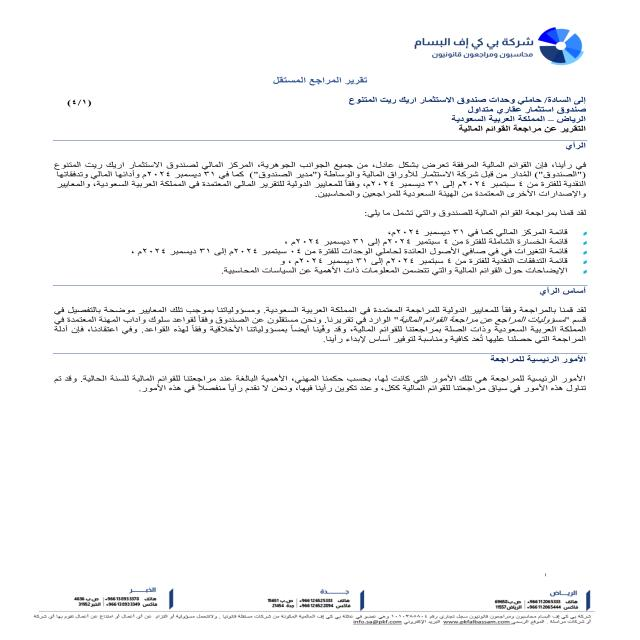auditor_report: (262, 74, 379, 90)
